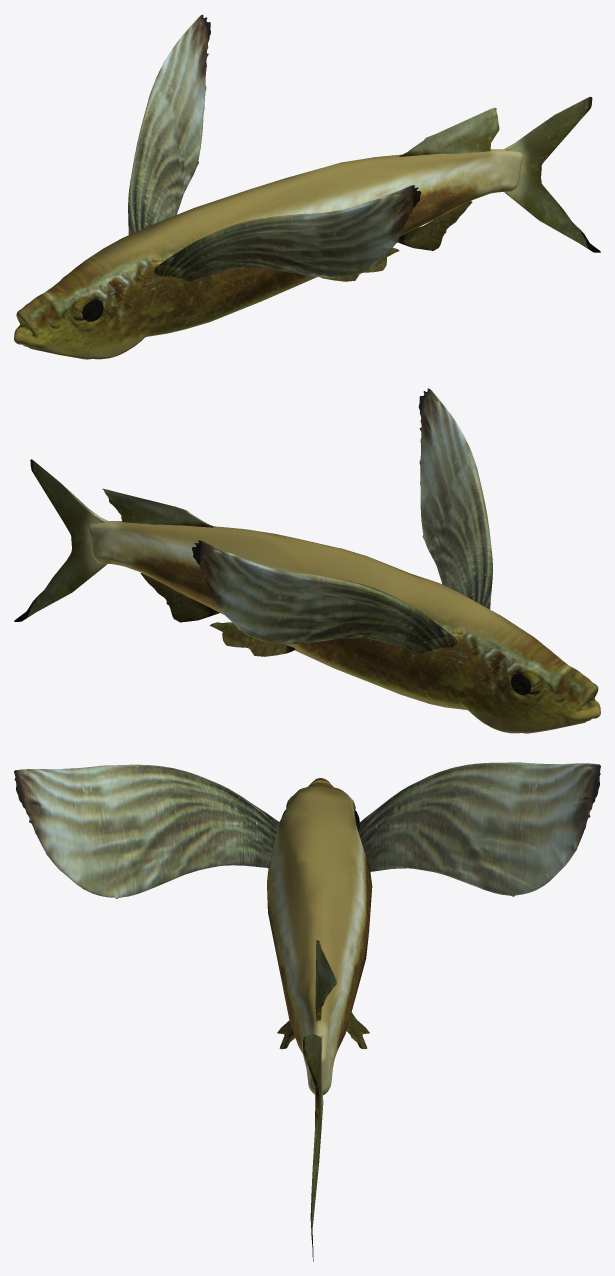
File: flyfish.glb
The picture shows the model from 3 angles, top to bottom: view 1: azimuth 30°, elevation 25°; view 2: azimuth 150°, elevation 25°; view 3: azimuth 270°, elevation 25°; orthographic projection. The views are drawn at different scales.
Parts seen in each view (by area): view 1: 3DSMeshMatrix (×6); view 2: 3DSMeshMatrix (×7); view 3: 3DSMeshMatrix (×5).
Boxes of the visible parts, x1,y1,x2,y2 form: 3DSMeshMatrix (×6): (14, 14, 600, 359); 3DSMeshMatrix (×7): (14, 388, 600, 733); 3DSMeshMatrix (×5): (14, 762, 600, 1261).
Size of the model in its own units: 832 by 313 by 543.
Materials: 4 (3 with a texture image).
